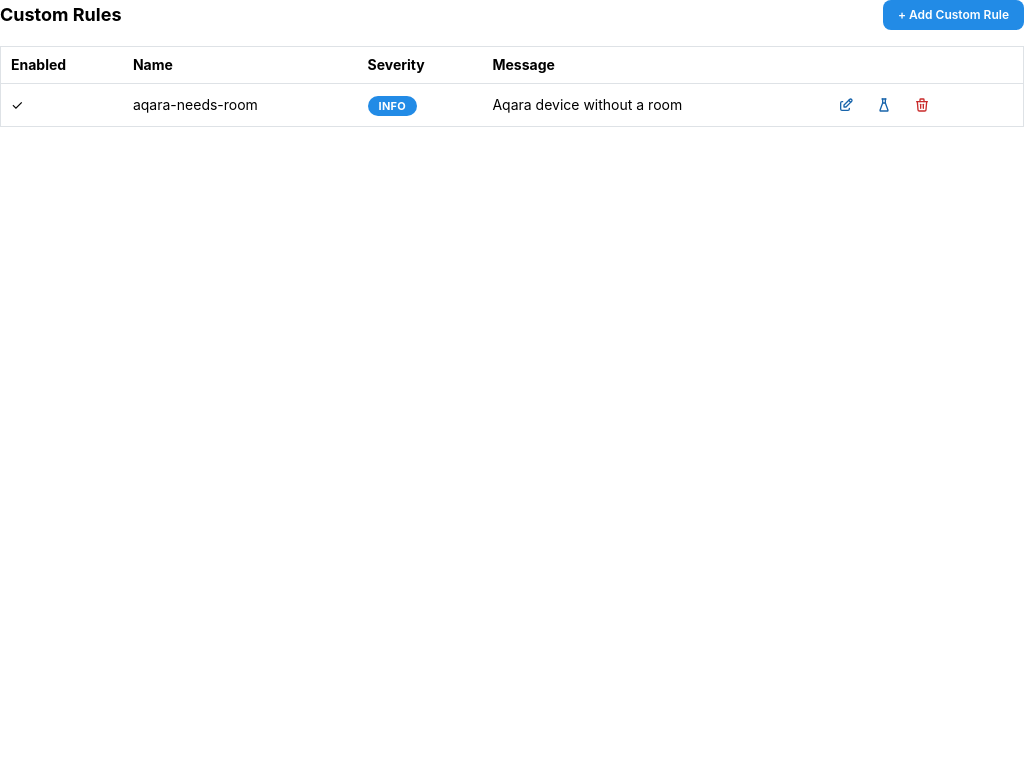
CustomRulesSection › clicking Add Custom Rule opens the editor
This screenshot has width=1024, height=768.
Click the button "+ Add Custom Rule" at (953, 15), box [883,0,1023,30]
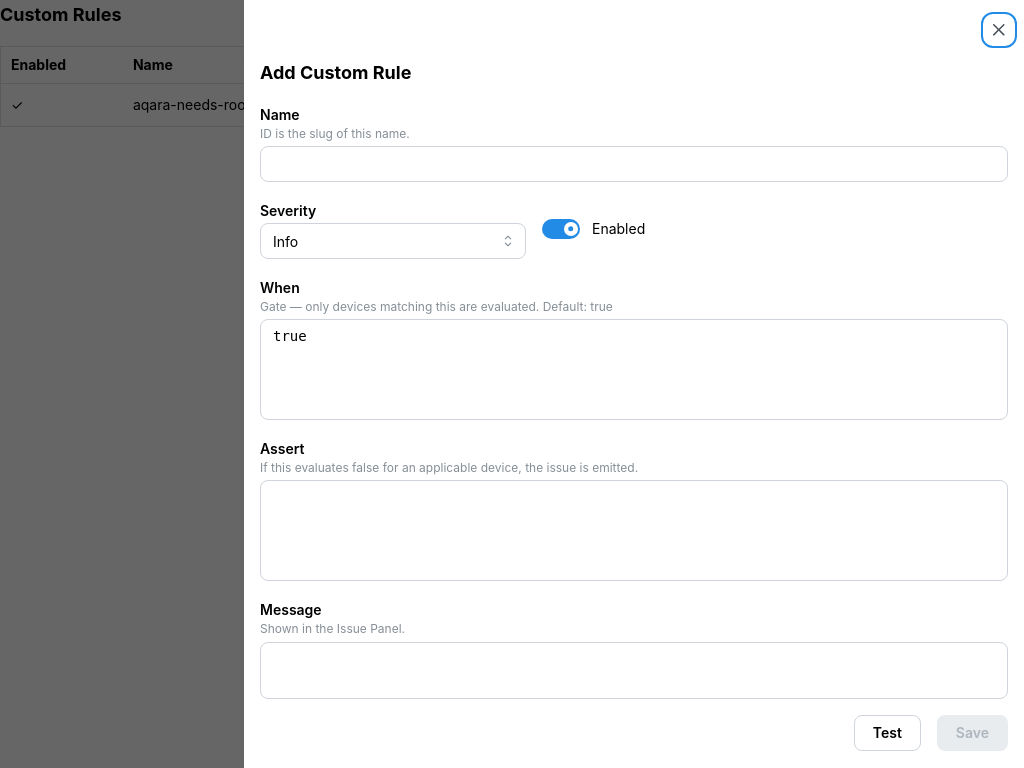
Now the heading "Add Custom Rule" is shown, box [260,62,411,83]
